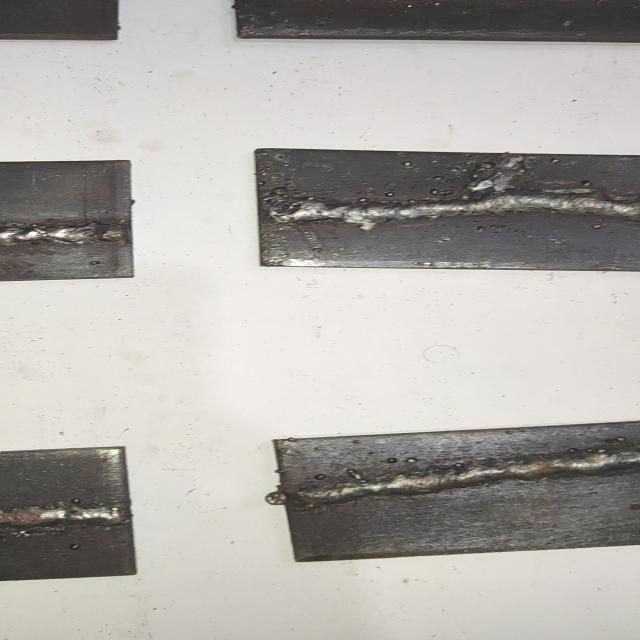Bad Weld: (263, 191, 640, 225)
Defect: (461, 154, 541, 229)
Good Weld: (291, 445, 640, 512), (0, 503, 131, 534), (0, 220, 132, 247)
